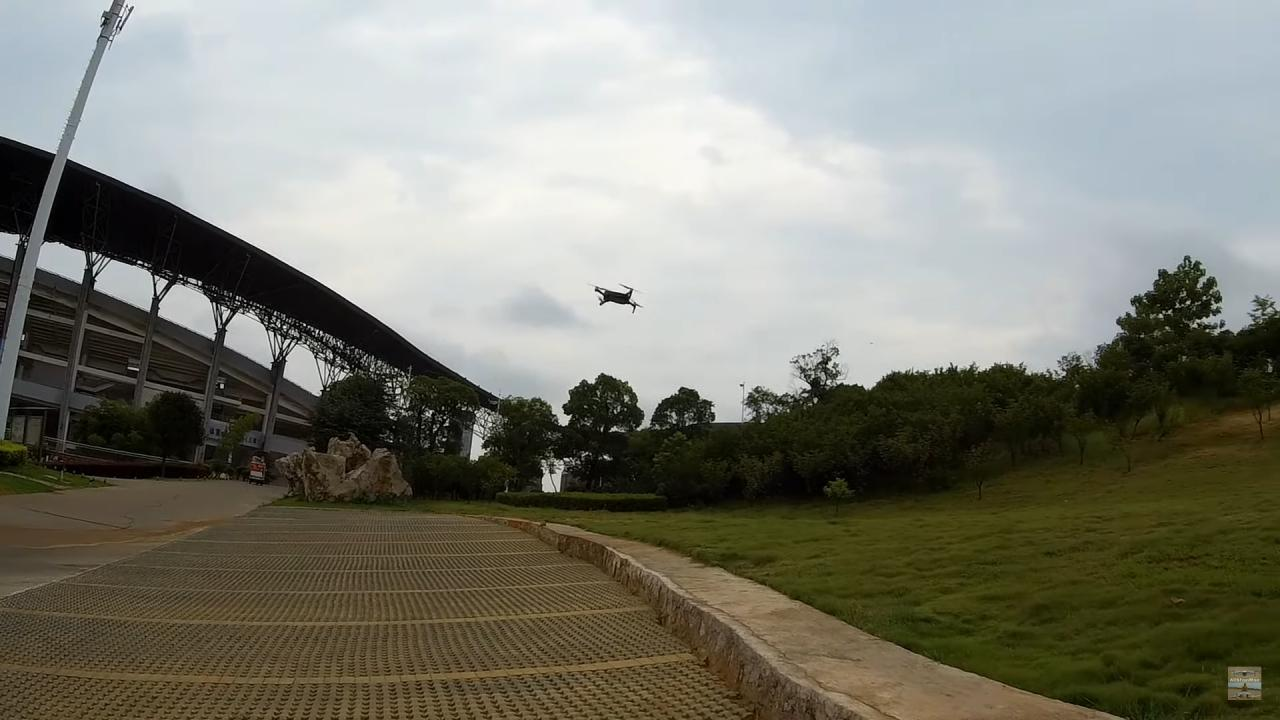Drone: (579, 272, 655, 318)
